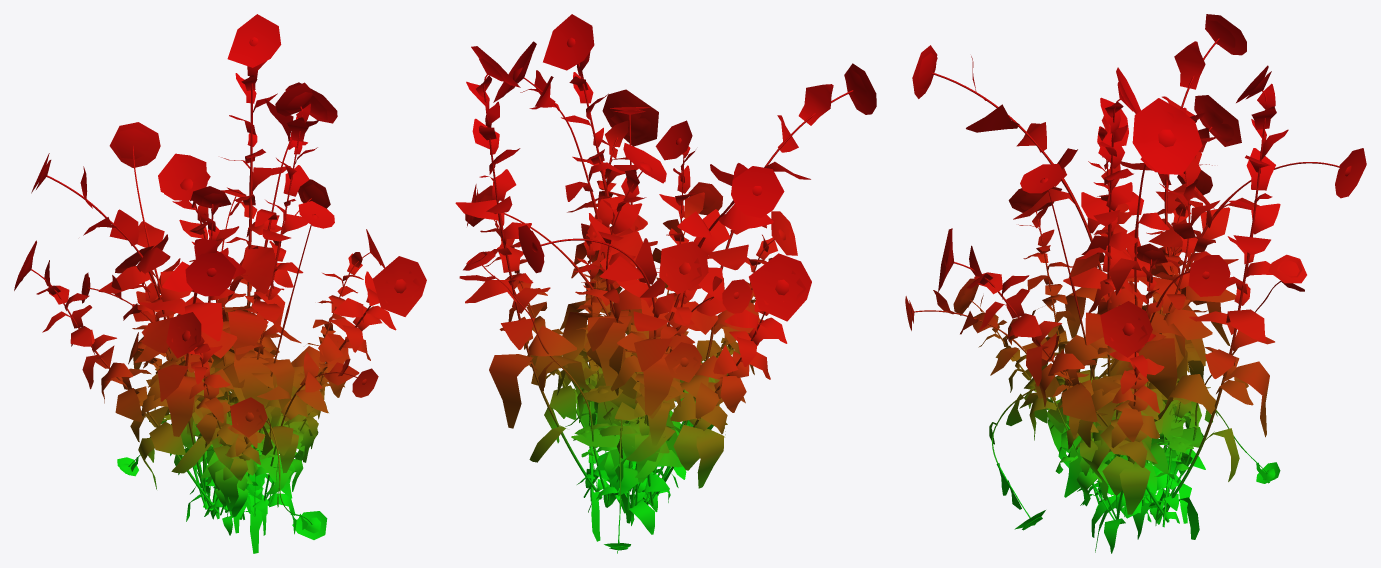
Rendered from Var1_LOD1.fbx.
3 views of the same model, side by side, from view 1: azimuth 30°, elevation 25°; view 2: azimuth 150°, elevation 25°; view 3: azimuth 270°, elevation 25° (orthographic). The views are drawn at different scales.
Parts seen in each view (by area): view 1: _4053_Var1_LOD1; view 2: _4053_Var1_LOD1; view 3: _4053_Var1_LOD1.
Boxes of the visible parts, left/top/right/bottom form: _4053_Var1_LOD1: left=14, top=14, right=426, bottom=553; _4053_Var1_LOD1: left=455, top=14, right=876, bottom=553; _4053_Var1_LOD1: left=905, top=14, right=1366, bottom=553.
Size of the model in its own units: 65.67 by 86.77 by 68.48.
